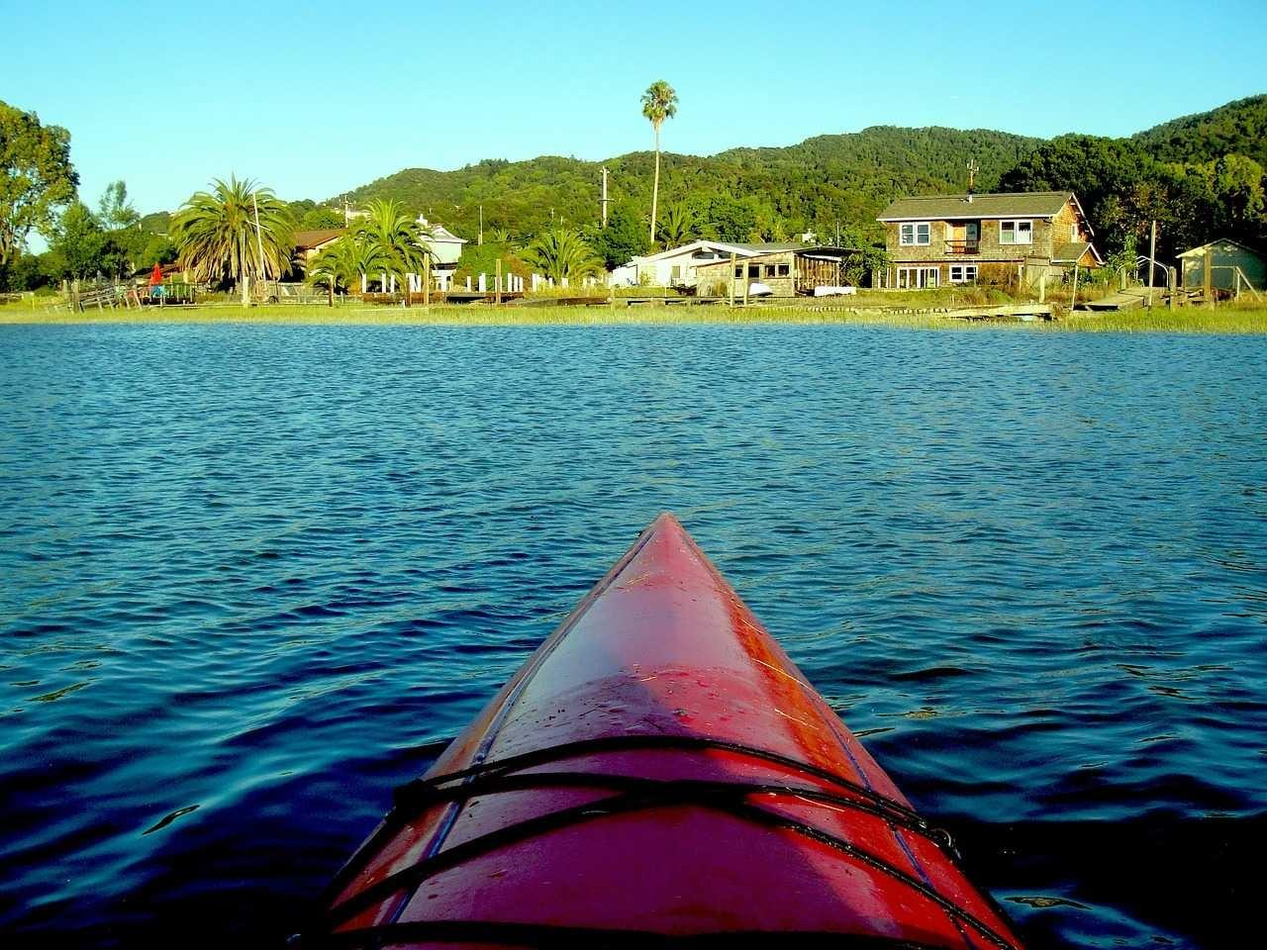kayak: (293, 512, 1026, 950)
